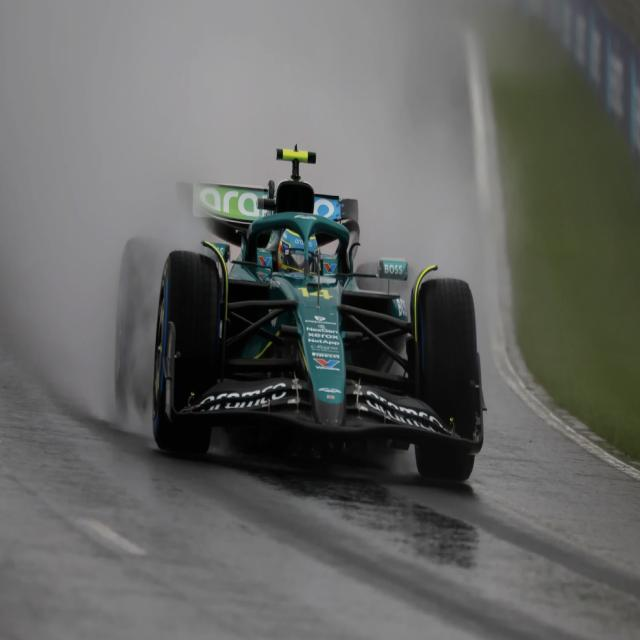Aston Martin: (114, 145, 485, 492)
